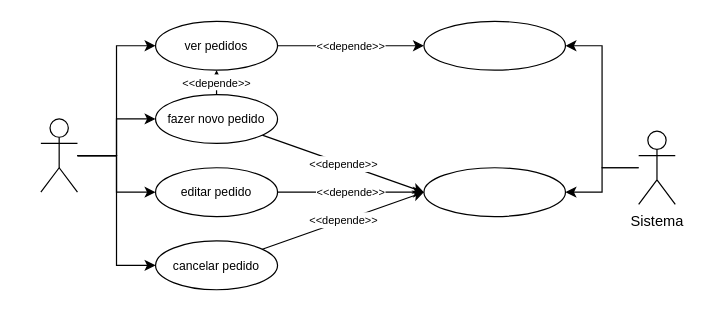
The diagram is 704 pixels wide and 311 high, and some of its shapes have lost their labels. The shapes that lost their labels are listed below. From the top down, each one's centre as x and y in pixels, then its label:
the point at 494,45: mostrar pedidos
the point at 58,155: Funcionário
the point at 494,192: registrar mudanças no banco de dados
